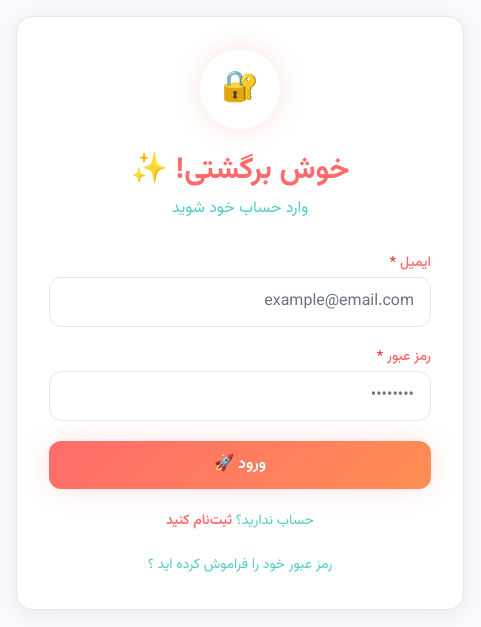
Test case: LoginPage / LoginForm › disables the submit button and shows the loading label while submitting
Type "test@example.com" into the field with placeholder "example@email.com" at (240, 302), box [49, 277, 431, 327]
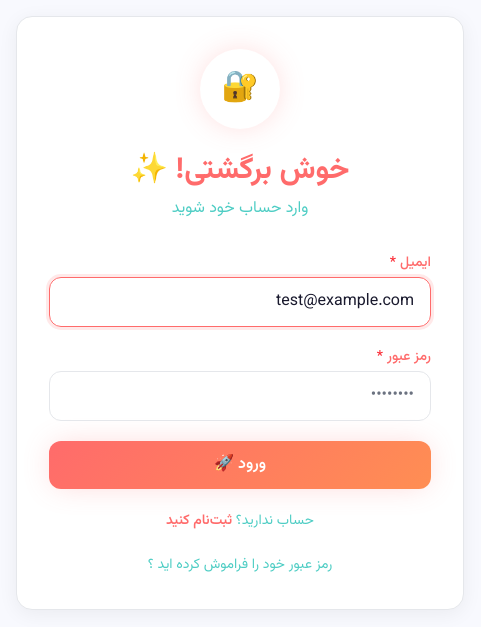
Type "Test@1234" into the password field with placeholder "••••••••" at (240, 396), box [49, 371, 431, 421]
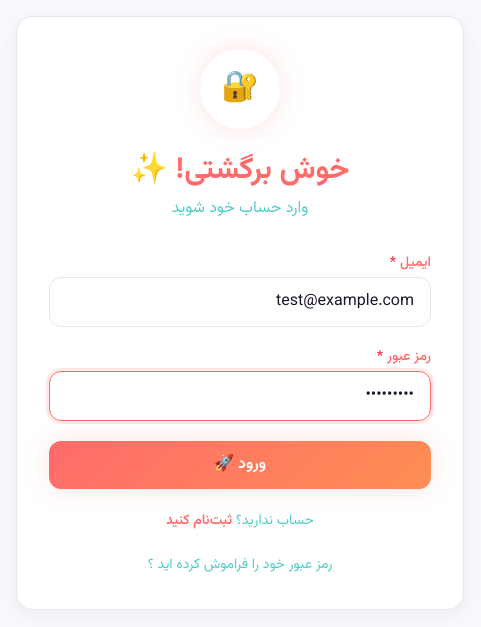
Click the button "ورود 🚀" at (240, 465), box [49, 441, 431, 489]
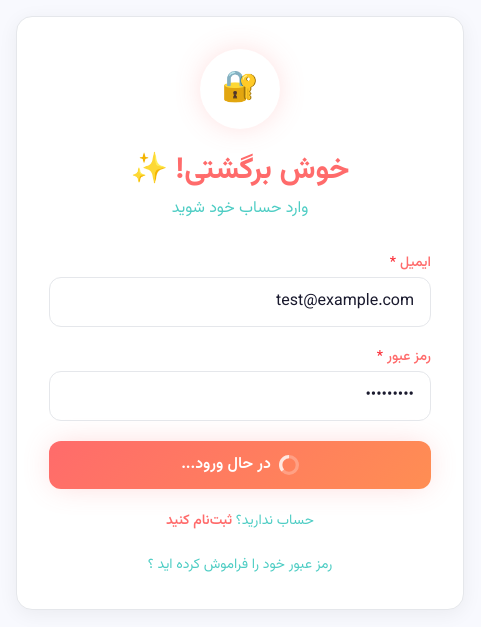
Now the button "در حال ورود..." is disabled, box [49, 441, 431, 489]
